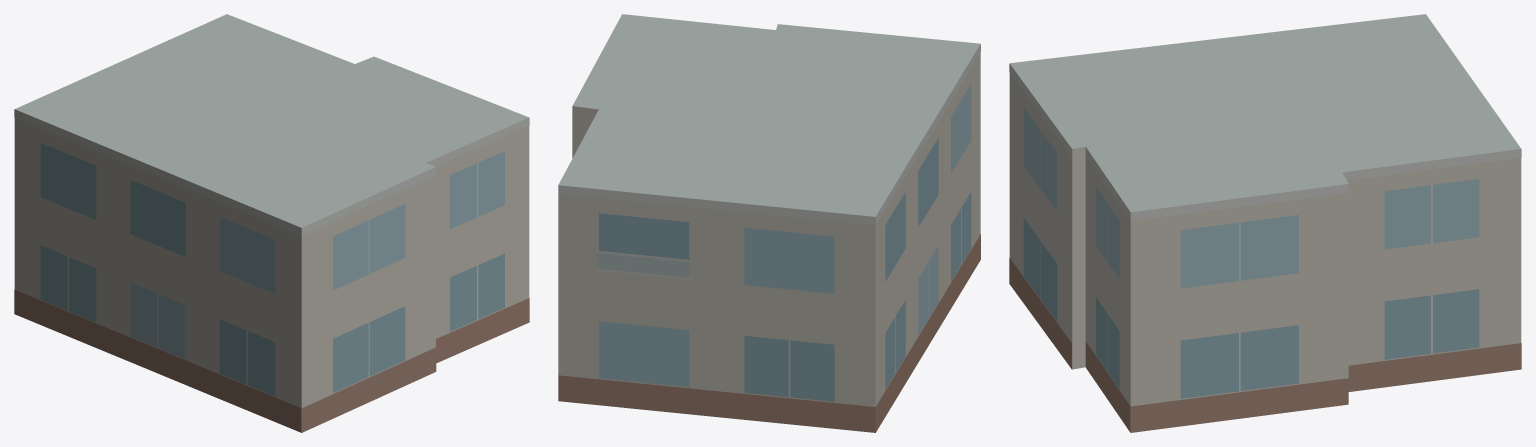
Rendered from survey-upis-32925992.glb.
3 views of the same model, side by side, from view 1: azimuth 30°, elevation 25°; view 2: azimuth 150°, elevation 25°; view 3: azimuth 270°, elevation 25° (orthographic). The views are drawn at different scales.
Visible parts, largest first — view 1: survey-upis-32925992.tmp; view 2: survey-upis-32925992.tmp; view 3: survey-upis-32925992.tmp.
Boxes of the visible parts, x1,y1,x2,y2 form: survey-upis-32925992.tmp: [14, 14, 529, 432]; survey-upis-32925992.tmp: [558, 14, 980, 432]; survey-upis-32925992.tmp: [1009, 14, 1521, 432].
Size of the model in its own units: 11.77 by 6.1 by 12.84.
